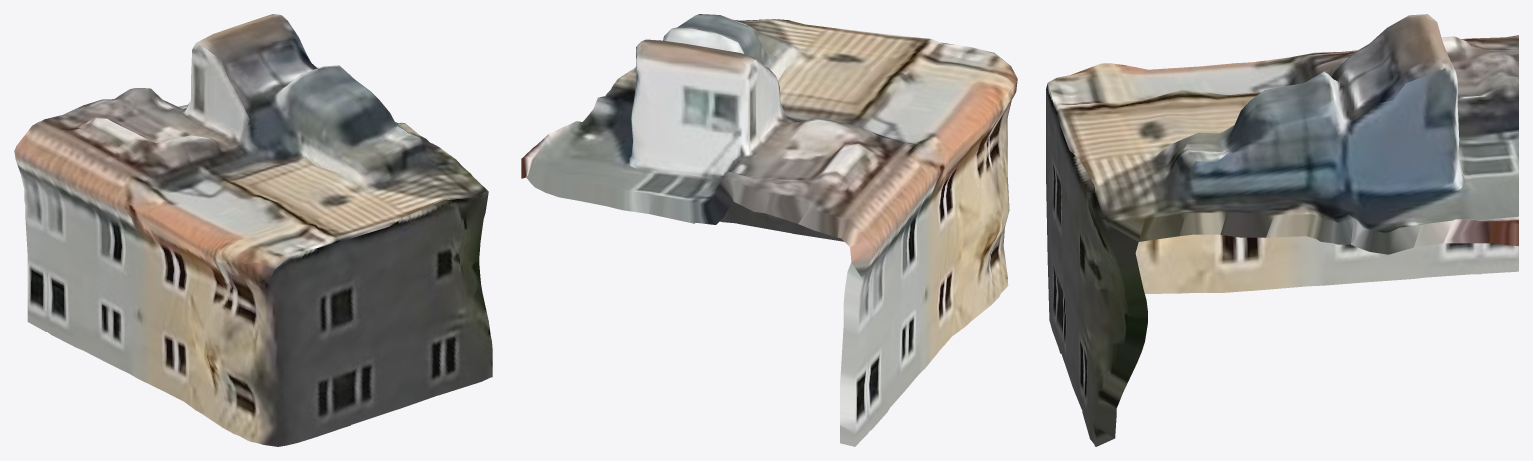
Rendered from z20-167721-405195-h1-yup-uvflip-v3-world.glb.
The picture shows the model from 3 angles, left to right: view 1: azimuth 30°, elevation 25°; view 2: azimuth 150°, elevation 25°; view 3: azimuth 270°, elevation 25°; orthographic projection. The views are drawn at different scales.
Bounding box in the file's own units: 11.08 × 9.6 × 12.04.
Materials: 1 (1 with a texture image).
